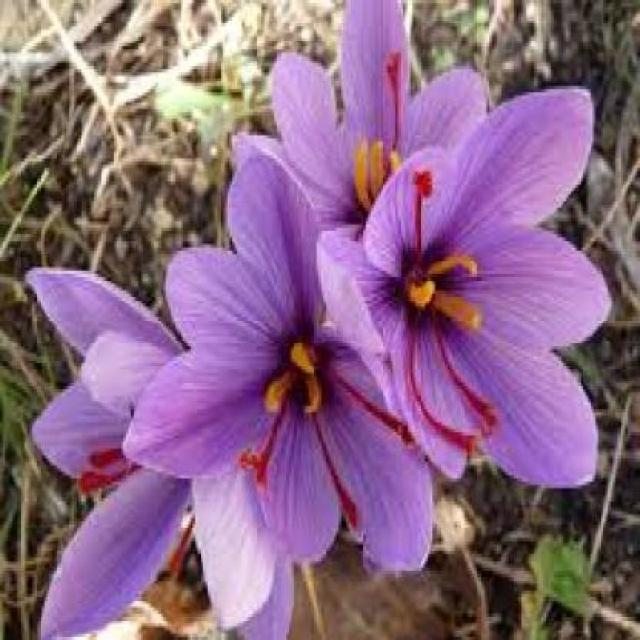Flower: (127, 142, 458, 568), (326, 82, 622, 464), (18, 260, 299, 640), (248, 0, 492, 266)
stigma: (395, 319, 479, 458), (427, 308, 506, 429), (330, 362, 412, 458), (311, 418, 365, 526), (238, 408, 294, 496), (375, 42, 415, 157), (408, 166, 439, 259)
